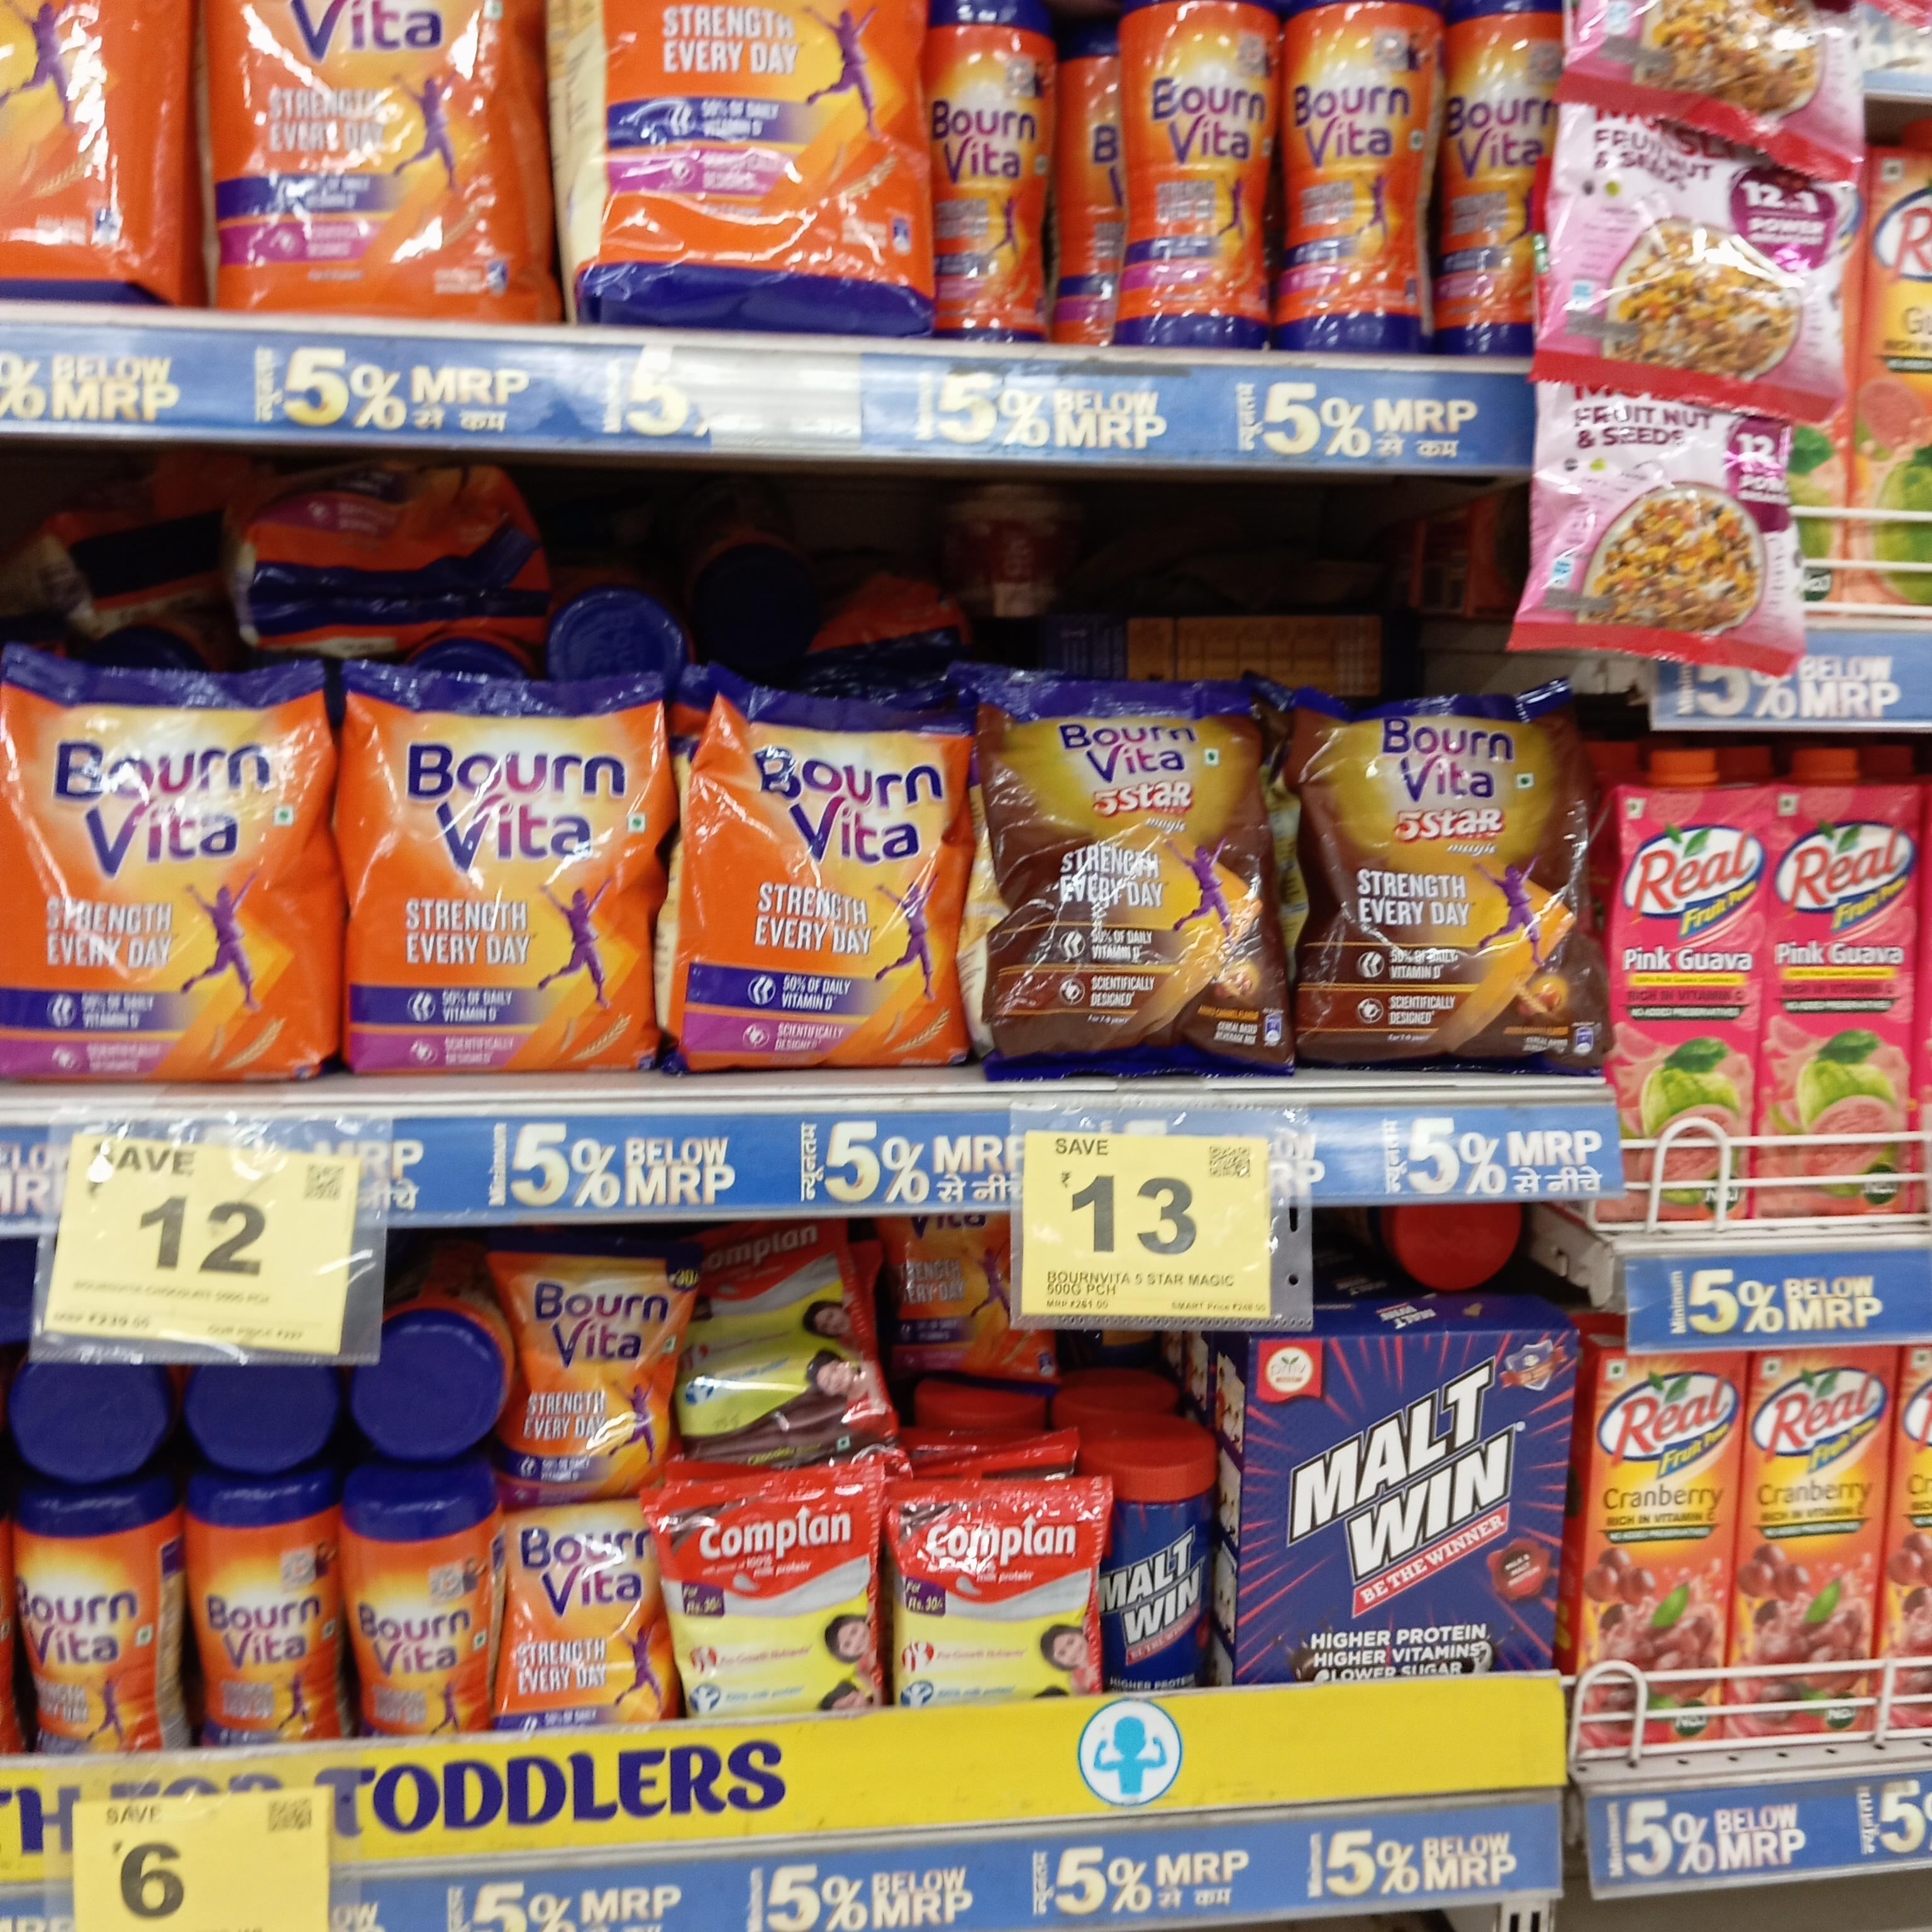BOURN_VITA_200_G_JAR: (186, 1476, 343, 1748), (18, 1500, 173, 1750), (352, 1491, 485, 1732)
BOURN_VITA_500_G_JAR: (1116, 0, 1279, 350), (1286, 0, 1433, 347)
BOURN_VITA_500_G_POUCH: (0, 649, 329, 1093), (345, 656, 649, 1081), (674, 665, 957, 1076)
BOURN_VITA_75_G_POUCH: (506, 1246, 662, 1486), (499, 1506, 665, 1723)
BOURN_VITA_FIVE_STAR_MAGIC_500_G_POUCH: (985, 688, 1284, 1077), (1300, 685, 1592, 1067)
